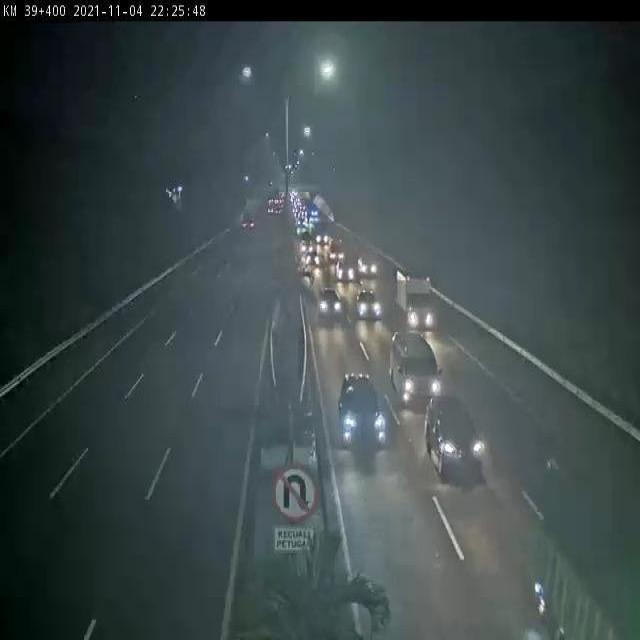car: (389, 318, 448, 414), (427, 393, 486, 487), (339, 364, 388, 455), (317, 285, 346, 328), (358, 287, 382, 321), (356, 248, 381, 279), (334, 255, 359, 284), (238, 206, 259, 233), (327, 239, 348, 264), (303, 248, 323, 269)
truck-s-: (394, 266, 437, 331)
